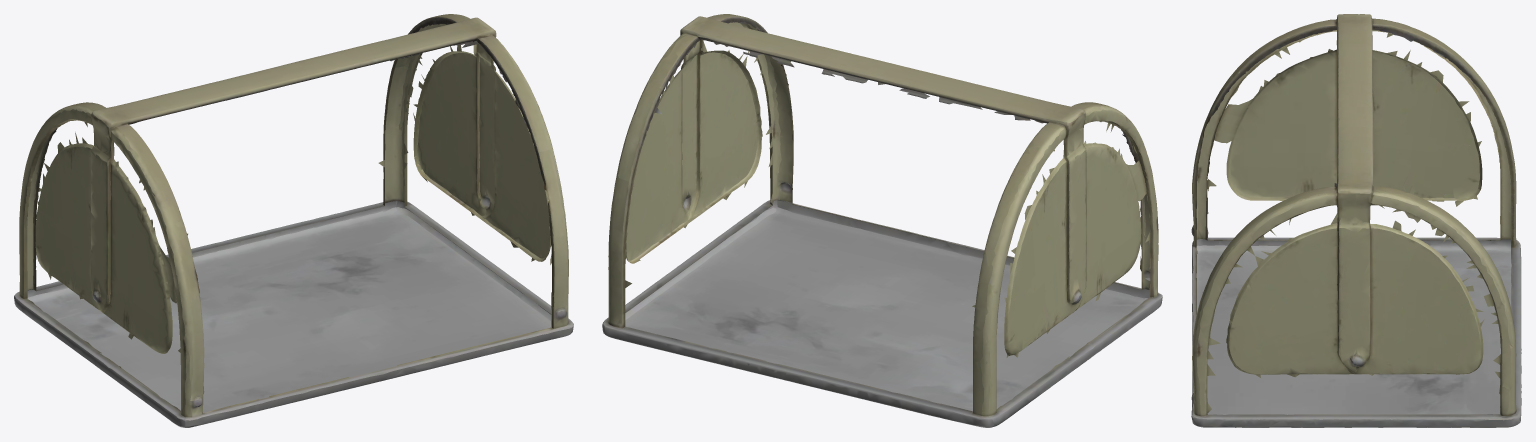
3 renders of one model, left to right at view 1: azimuth 30°, elevation 25°; view 2: azimuth 150°, elevation 25°; view 3: azimuth 270°, elevation 25°, orthographic. The views are drawn at different scales.
Parts seen in each view (by area): view 1: world; view 2: world; view 3: world.
Part boxes in pixels (<box>): world: <box>14,14,573,427</box>; world: <box>602,14,1162,427</box>; world: <box>1191,14,1521,427</box>.
Bounding box in the file's own units: 0.45 × 0.2738 × 0.3446.
1 material, 1 textured.
